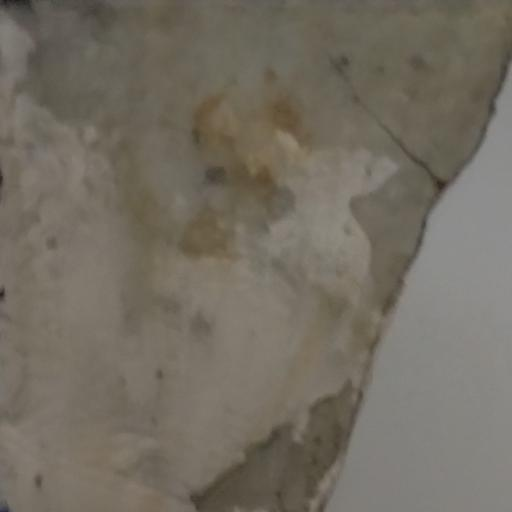spalling: (0, 0, 499, 501)
